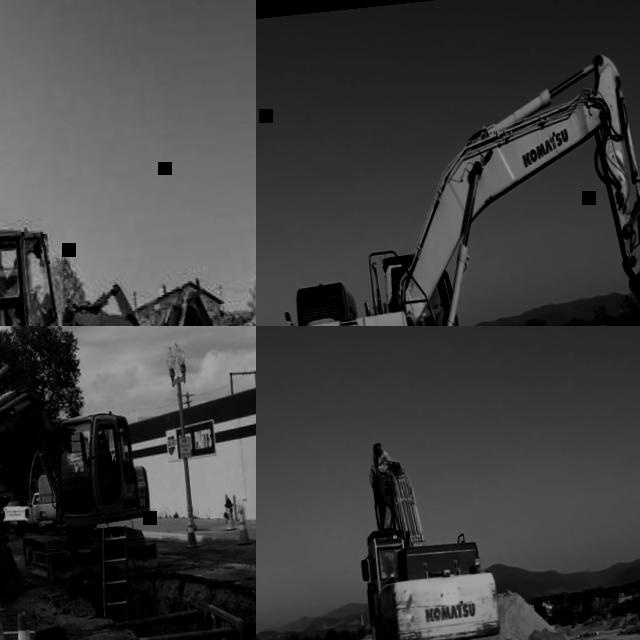Person: (379, 557, 395, 579)
Safety Cone: (0, 608, 58, 640), (234, 506, 253, 546), (181, 511, 200, 549)
Safety Vest: (381, 568, 393, 578)
machinery: (256, 44, 640, 326), (315, 428, 527, 640), (0, 349, 160, 597), (0, 196, 241, 326)
vehicle: (1, 492, 47, 537), (0, 498, 27, 533)
